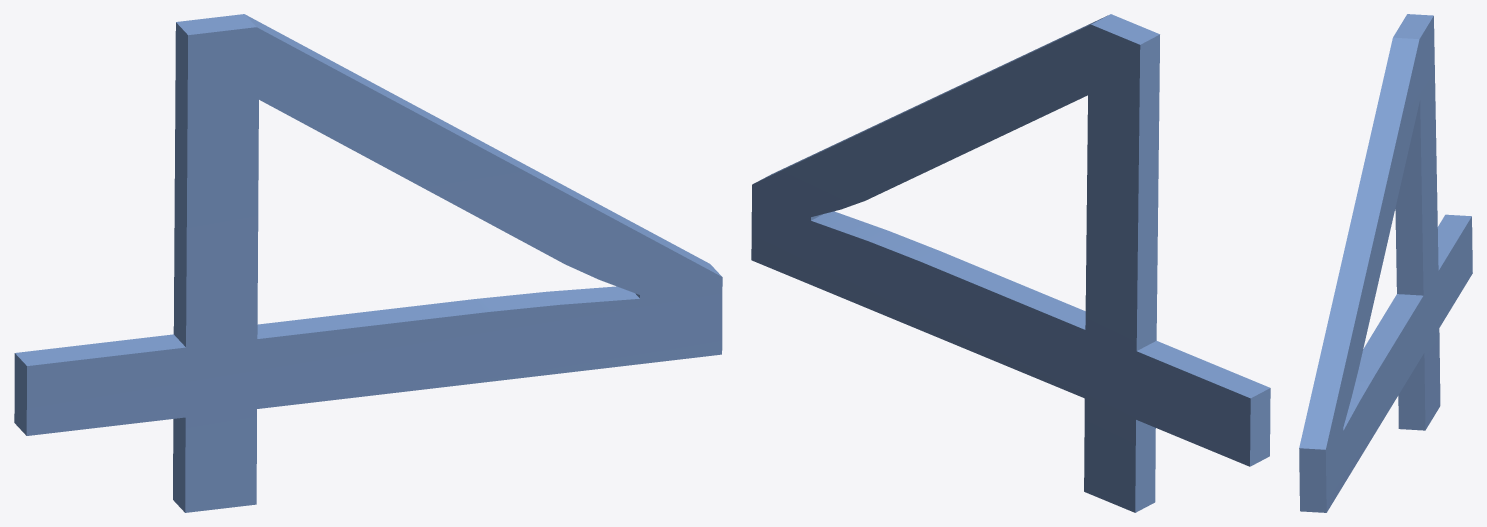
The model's file is New_Number_4.gltf.
The picture shows the model from 3 angles, left to right: view 1: azimuth 30°, elevation 25°; view 2: azimuth 150°, elevation 25°; view 3: azimuth 270°, elevation 25°; orthographic projection. The views are drawn at different scales.
Visible parts, largest first — view 1: Part 166; view 2: Part 166; view 3: Part 166.
Boxes of the visible parts, x1,y1,x2,y2 form: Part 166: (14, 14, 722, 512); Part 166: (751, 14, 1270, 512); Part 166: (1299, 14, 1472, 512).
Size of the model in its own units: 0.00542 by 0.00408 by 0.00165.
